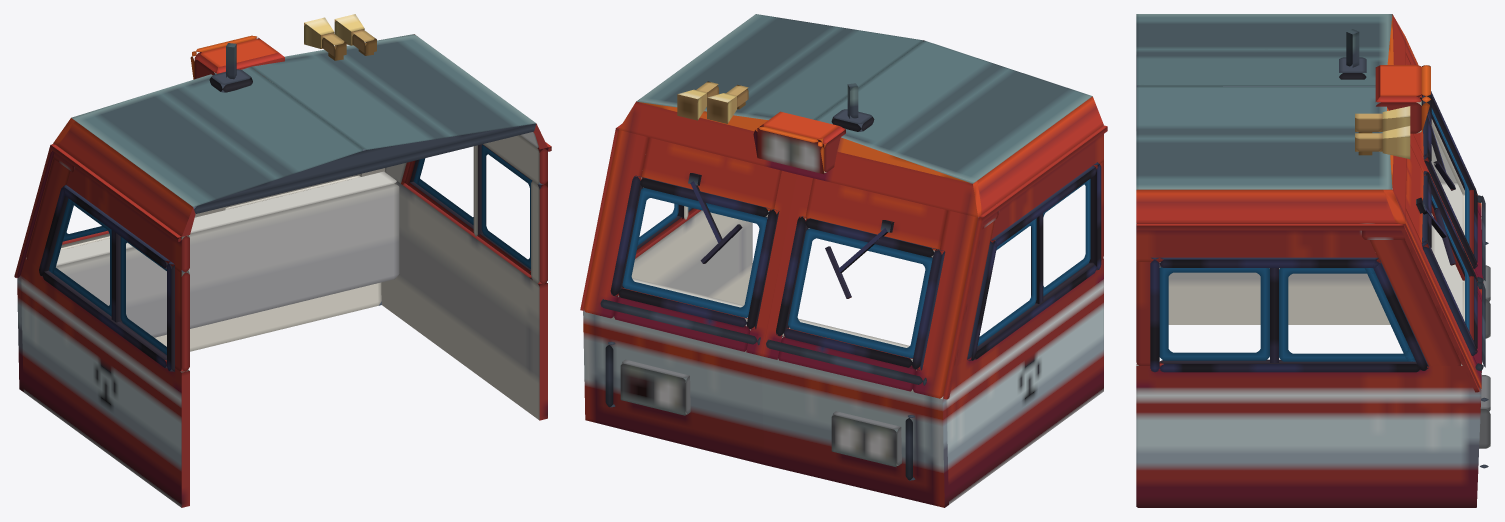
The model's file is gc220ii_head_2.obj.
3 renders of one model, left to right at view 1: azimuth 30°, elevation 25°; view 2: azimuth 150°, elevation 25°; view 3: azimuth 270°, elevation 25°, orthographic. The views are drawn at different scales.
Parts seen in each view (by area): view 1: gc220ii_head_2; view 2: gc220ii_head_2; view 3: gc220ii_head_2.
Part boxes in pixels (bbox=[...]): gc220ii_head_2: bbox=[14, 14, 551, 507]; gc220ii_head_2: bbox=[580, 14, 1107, 507]; gc220ii_head_2: bbox=[1136, 14, 1490, 507].
Size of the model in its own units: 3.07 by 2.75 by 2.41.
